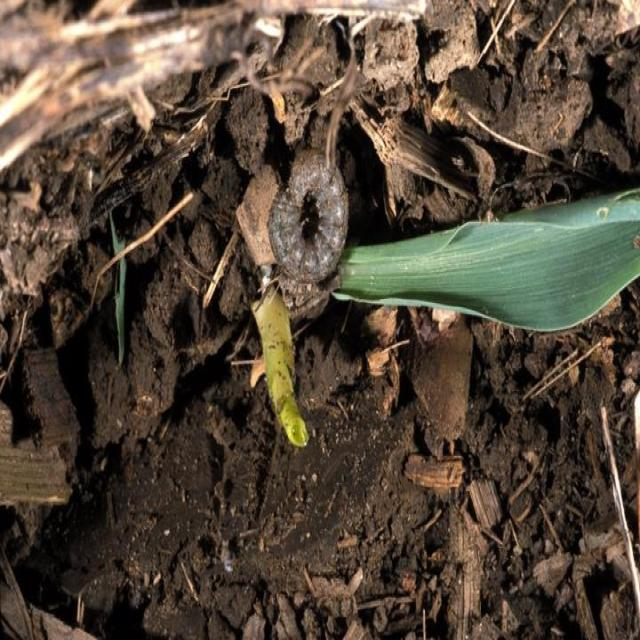black cutworm: (267, 150, 352, 290)
